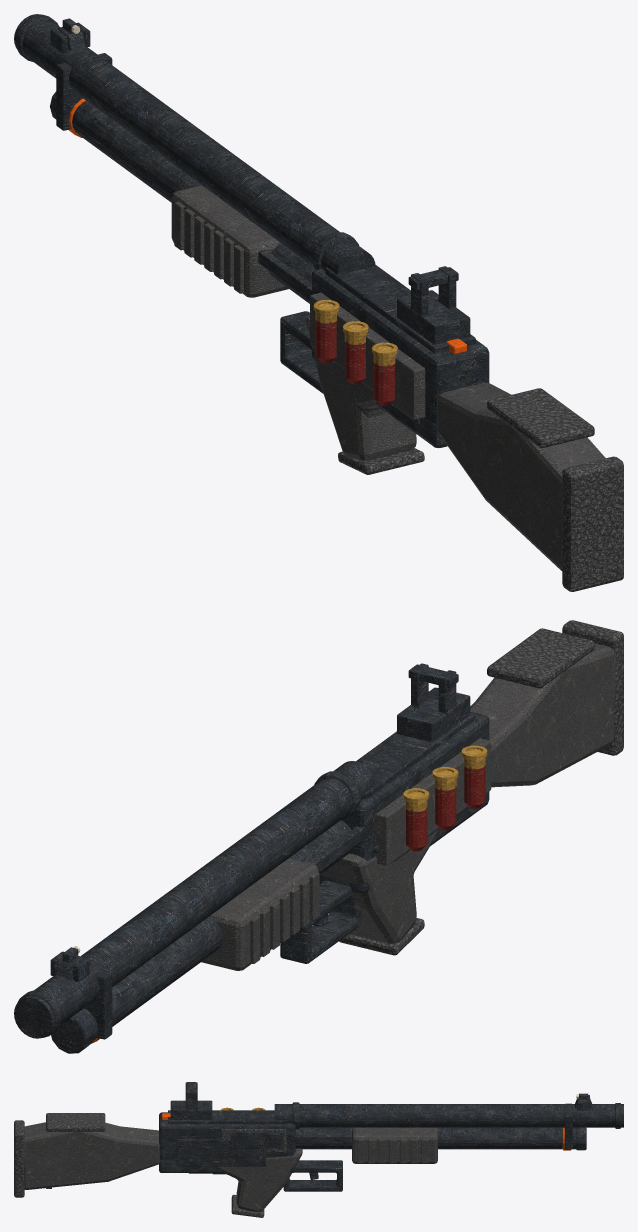
The model's file is mastiff.glb.
The picture shows the model from 3 angles, top to bottom: view 1: azimuth 30°, elevation 25°; view 2: azimuth 150°, elevation 25°; view 3: azimuth 270°, elevation 25°; orthographic projection. The views are drawn at different scales.
Visible parts, largest first — view 1: body | blued steel, body | polymer, body | rubber, pump | polymer, trigger | blued steel, pump | blued steel, Shell 3, Shell 2, Shell 1; view 2: body | blued steel, body | polymer, pump | polymer, body | rubber, trigger | blued steel, mag | blued steel, pump | blued steel, Shell 2, Shell 1, Shell 3; view 3: body | blued steel, body | polymer, pump | polymer, body | rubber, trigger | blued steel, bolt | blued steel, pump | blued steel, mag | blued steel.
Boxes of the visible parts, x1=… form: body | blued steel: x1=14, y1=14, x2=489, y2=448; body | polymer: x1=306, y1=292, x2=605, y2=570; body | rubber: x1=338, y1=388, x2=623, y2=591; pump | polymer: x1=171, y1=185, x2=288, y2=297; trigger | blued steel: x1=280, y1=311, x2=323, y2=393; pump | blued steel: x1=258, y1=249, x2=311, y2=300; Shell 3: x1=315, y1=320, x2=336, y2=363; Shell 2: x1=345, y1=342, x2=365, y2=384; Shell 1: x1=374, y1=363, x2=394, y2=405; body | blued steel: x1=14, y1=663, x2=489, y2=1040; body | polymer: x1=320, y1=643, x2=615, y2=943; pump | polymer: x1=201, y1=858, x2=319, y2=970; body | rubber: x1=339, y1=620, x2=623, y2=955; trigger | blued steel: x1=280, y1=880, x2=361, y2=963; mag | blued steel: x1=51, y1=1010, x2=95, y2=1053; pump | blued steel: x1=307, y1=826, x2=365, y2=871; Shell 2: x1=435, y1=787, x2=456, y2=830; Shell 1: x1=464, y1=765, x2=485, y2=808; Shell 3: x1=406, y1=808, x2=427, y2=851; body | blued steel: x1=46, y1=1082, x2=623, y2=1188; body | polymer: x1=23, y1=1122, x2=302, y2=1211; pump | polymer: x1=352, y1=1127, x2=437, y2=1163; body | rubber: x1=14, y1=1113, x2=286, y2=1217; trigger | blued steel: x1=213, y1=1160, x2=342, y2=1191; bolt | blued steel: x1=230, y1=1131, x2=283, y2=1148; pump | blued steel: x1=294, y1=1135, x2=352, y2=1142; mag | blued steel: x1=576, y1=1127, x2=586, y2=1150.
Bounding box in the file's own units: 0.1008 × 0.2304 × 1.03.
Materials: 7 (7 with a texture image).
